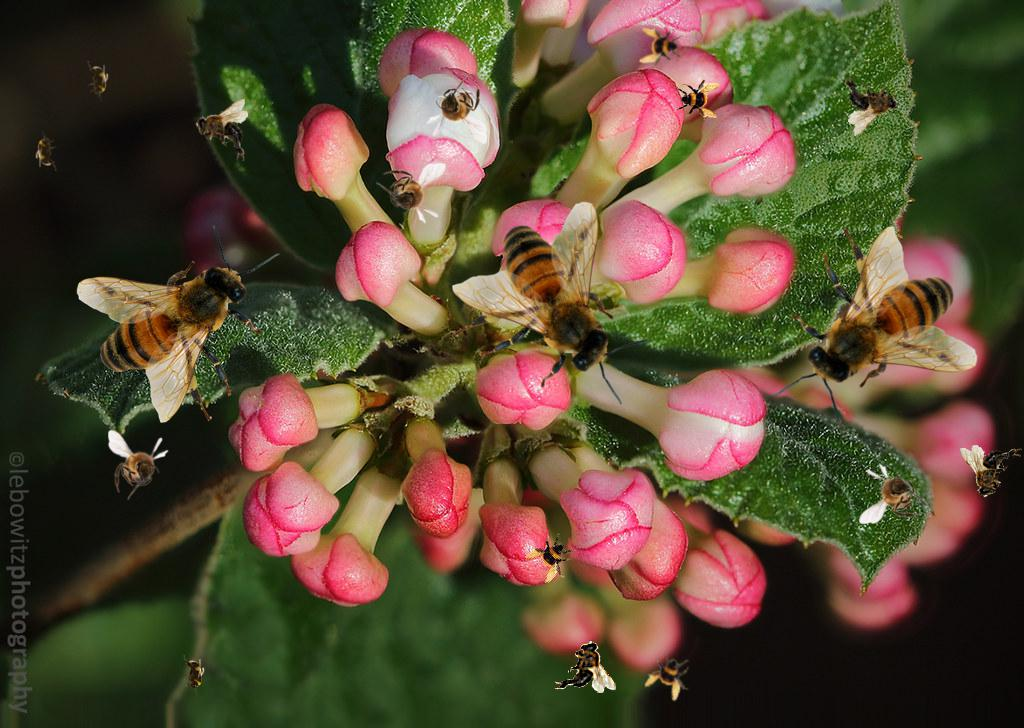Bee: (76, 224, 280, 423), (452, 201, 651, 405), (774, 226, 978, 425), (839, 65, 904, 137), (426, 74, 487, 144), (376, 163, 446, 224), (859, 463, 929, 524), (108, 430, 169, 500), (520, 526, 584, 590), (641, 647, 699, 705), (554, 640, 616, 693), (195, 99, 248, 161), (960, 445, 1022, 498), (676, 76, 720, 120), (639, 26, 683, 70), (183, 655, 205, 695), (35, 131, 57, 171), (87, 61, 109, 101)
